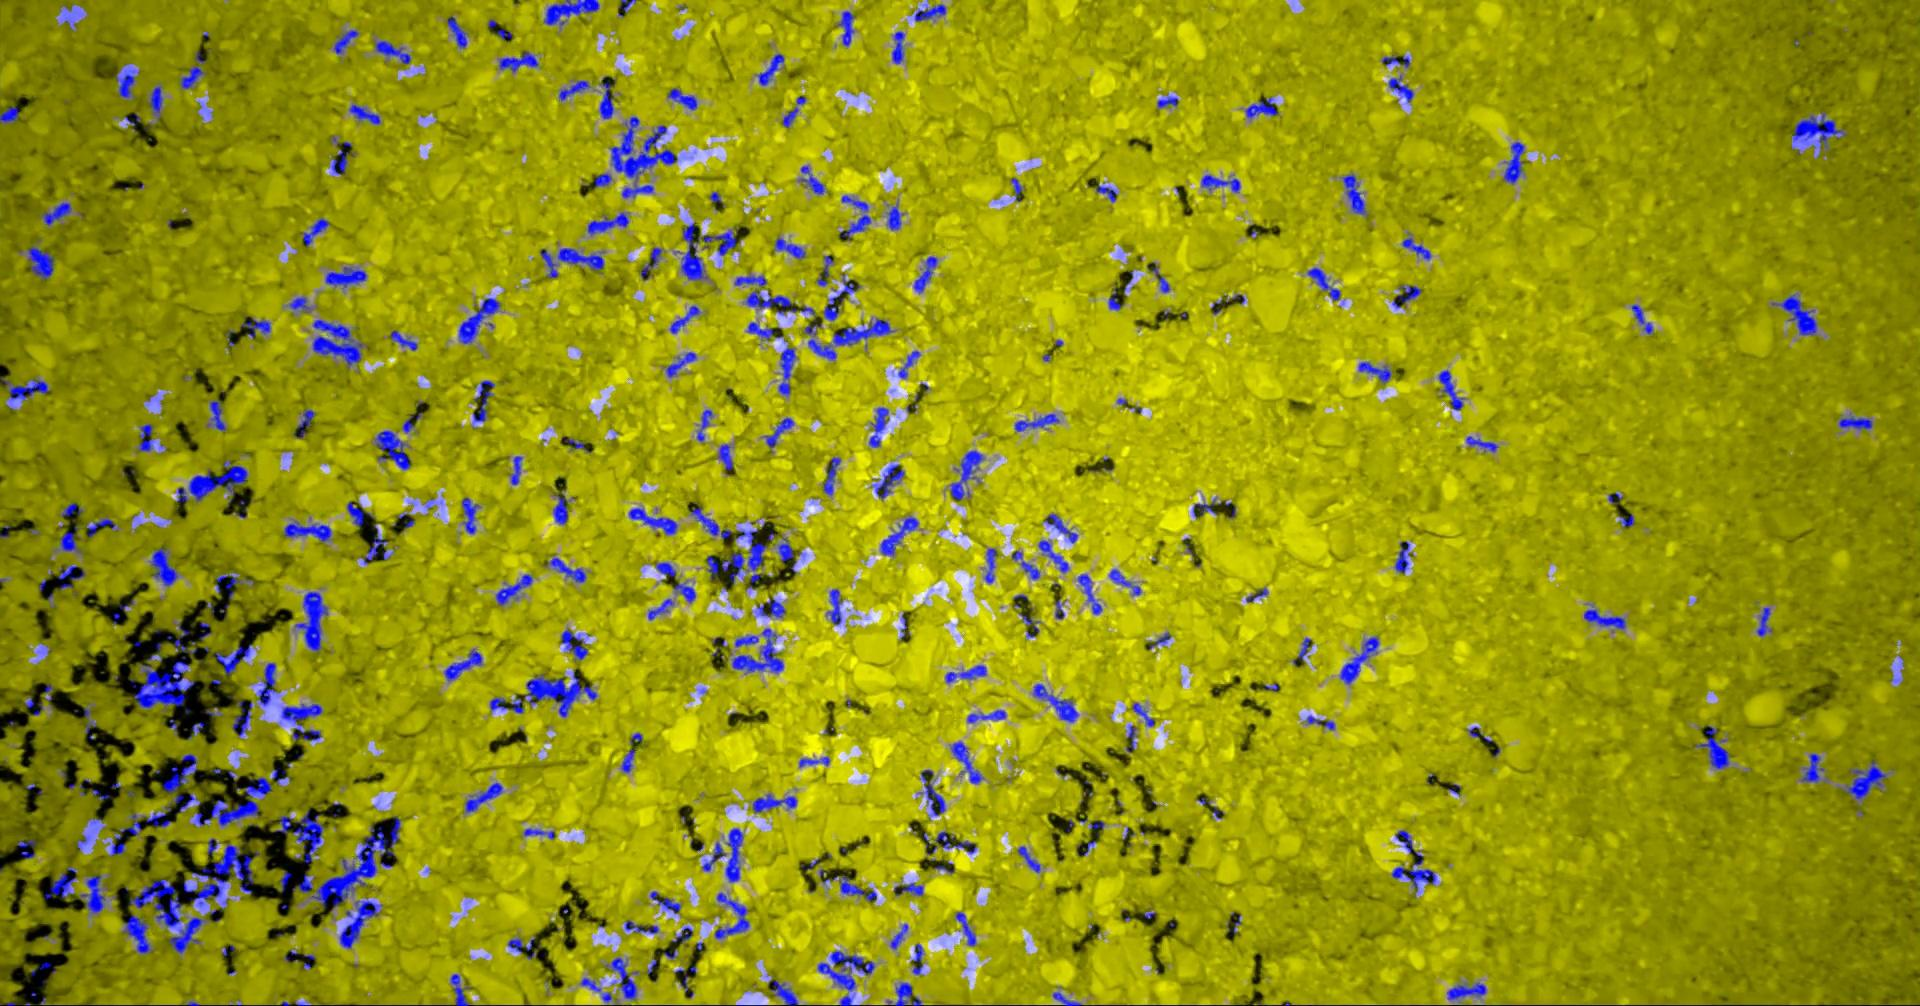ant: (681, 222, 737, 279), (817, 950, 874, 1005), (210, 777, 270, 826), (1390, 829, 1435, 890), (128, 878, 182, 926), (274, 810, 323, 862), (731, 627, 783, 673), (312, 319, 362, 365), (295, 591, 328, 650), (339, 901, 381, 948), (1792, 112, 1844, 149), (734, 528, 766, 588), (1771, 293, 1816, 335), (458, 297, 499, 343), (1338, 636, 1378, 683), (832, 318, 893, 345), (1032, 683, 1077, 721), (950, 450, 983, 500), (145, 793, 196, 826), (823, 273, 858, 320), (745, 290, 814, 314), (1843, 760, 1884, 799), (279, 702, 321, 741), (714, 892, 748, 937), (1695, 725, 1730, 768), (880, 516, 917, 555), (543, 0, 599, 25), (822, 875, 876, 901), (375, 431, 410, 469), (690, 506, 730, 539), (804, 318, 836, 359), (950, 741, 982, 782), (109, 813, 141, 855), (604, 956, 636, 998), (168, 917, 206, 951), (163, 753, 196, 793), (629, 507, 677, 533), (841, 196, 870, 238), (922, 831, 975, 854), (919, 768, 943, 815), (706, 553, 743, 583), (495, 574, 532, 605), (444, 649, 481, 680), (557, 246, 603, 271), (0, 377, 48, 400), (465, 782, 502, 812), (123, 915, 151, 953), (1307, 267, 1338, 300), (872, 464, 903, 498), (215, 644, 249, 674), (150, 547, 177, 586), (283, 520, 330, 541), (1437, 370, 1462, 410), (1037, 540, 1068, 572), (44, 866, 75, 898), (80, 874, 105, 912), (1043, 514, 1077, 542), (546, 558, 585, 582), (1077, 574, 1101, 614), (587, 212, 629, 234), (1342, 174, 1365, 213), (180, 51, 204, 88), (27, 246, 53, 279), (725, 828, 742, 882), (325, 265, 366, 287), (621, 732, 643, 772), (363, 525, 386, 563), (375, 39, 410, 64), (913, 257, 937, 292), (1503, 141, 1524, 183), (764, 417, 792, 447), (757, 53, 783, 85), (1109, 568, 1140, 594), (472, 380, 493, 420), (257, 662, 276, 705), (669, 305, 698, 333), (1011, 550, 1039, 579), (498, 51, 537, 71), (1583, 608, 1625, 627), (778, 347, 795, 395), (1015, 413, 1059, 431), (752, 794, 796, 812), (665, 351, 695, 377), (869, 406, 888, 447), (561, 629, 587, 659), (1357, 361, 1390, 384), (215, 572, 243, 598), (781, 97, 805, 127), (1192, 498, 1230, 517), (649, 890, 681, 913), (640, 246, 662, 279), (302, 218, 328, 246), (345, 500, 373, 526), (770, 979, 797, 1005), (800, 165, 824, 194), (701, 842, 725, 871), (1147, 262, 1170, 292), (955, 911, 975, 945), (450, 973, 471, 1005), (1388, 75, 1413, 102), (1201, 174, 1239, 192), (823, 457, 841, 495), (58, 564, 85, 589), (232, 700, 251, 735), (557, 80, 590, 100), (1244, 97, 1277, 117), (945, 666, 985, 682), (667, 86, 696, 109), (42, 202, 71, 225), (1401, 238, 1430, 260), (1801, 753, 1823, 782), (507, 936, 536, 959), (1630, 304, 1652, 334), (446, 17, 466, 48), (116, 69, 138, 97), (241, 315, 270, 337), (1446, 982, 1484, 998), (333, 29, 358, 53), (1017, 846, 1040, 873), (894, 982, 921, 1005), (461, 497, 477, 533), (1394, 541, 1413, 573), (599, 75, 613, 118), (898, 351, 919, 379), (293, 409, 315, 437), (58, 525, 80, 553), (775, 238, 804, 258), (837, 11, 855, 44), (331, 149, 354, 174), (206, 400, 225, 431), (389, 330, 417, 351), (757, 597, 785, 617), (349, 104, 378, 123), (1131, 702, 1154, 727), (914, 4, 945, 22), (85, 518, 116, 536), (489, 697, 523, 713), (540, 248, 557, 277), (648, 598, 673, 619), (745, 323, 773, 340), (827, 588, 841, 624), (696, 409, 711, 441), (1465, 436, 1497, 451), (817, 255, 833, 285), (149, 85, 163, 119), (623, 920, 658, 934), (968, 709, 1004, 721), (552, 494, 568, 525), (673, 582, 695, 602), (1397, 285, 1420, 304), (1837, 417, 1872, 429), (891, 30, 904, 64), (886, 203, 903, 229), (890, 923, 907, 949), (291, 873, 312, 892), (717, 445, 731, 474), (1756, 607, 1770, 636), (1305, 715, 1335, 729), (1051, 991, 1081, 1005), (563, 437, 589, 452), (984, 547, 996, 583), (621, 184, 653, 197), (138, 423, 152, 451), (403, 412, 422, 432), (893, 883, 923, 895), (1095, 183, 1116, 201), (1018, 614, 1037, 633), (797, 756, 829, 767), (910, 942, 922, 974), (1148, 633, 1170, 649), (1382, 55, 1410, 67), (777, 539, 792, 561), (24, 696, 42, 715), (17, 840, 36, 857), (1297, 636, 1310, 661), (670, 927, 692, 942), (734, 276, 766, 286), (1244, 587, 1267, 601), (187, 721, 204, 739), (523, 828, 554, 838), (61, 502, 83, 516), (510, 455, 521, 484), (618, 0, 636, 17), (0, 105, 18, 122), (272, 767, 290, 784), (288, 297, 309, 311), (1010, 177, 1021, 201), (734, 635, 758, 647), (1125, 725, 1135, 752), (657, 561, 676, 575), (580, 977, 599, 991), (1109, 287, 1120, 309), (491, 28, 512, 39), (594, 173, 611, 187), (1157, 97, 1178, 107), (279, 871, 291, 890), (1090, 821, 1103, 835), (1618, 514, 1634, 526), (207, 838, 218, 854), (1054, 600, 1063, 619)
